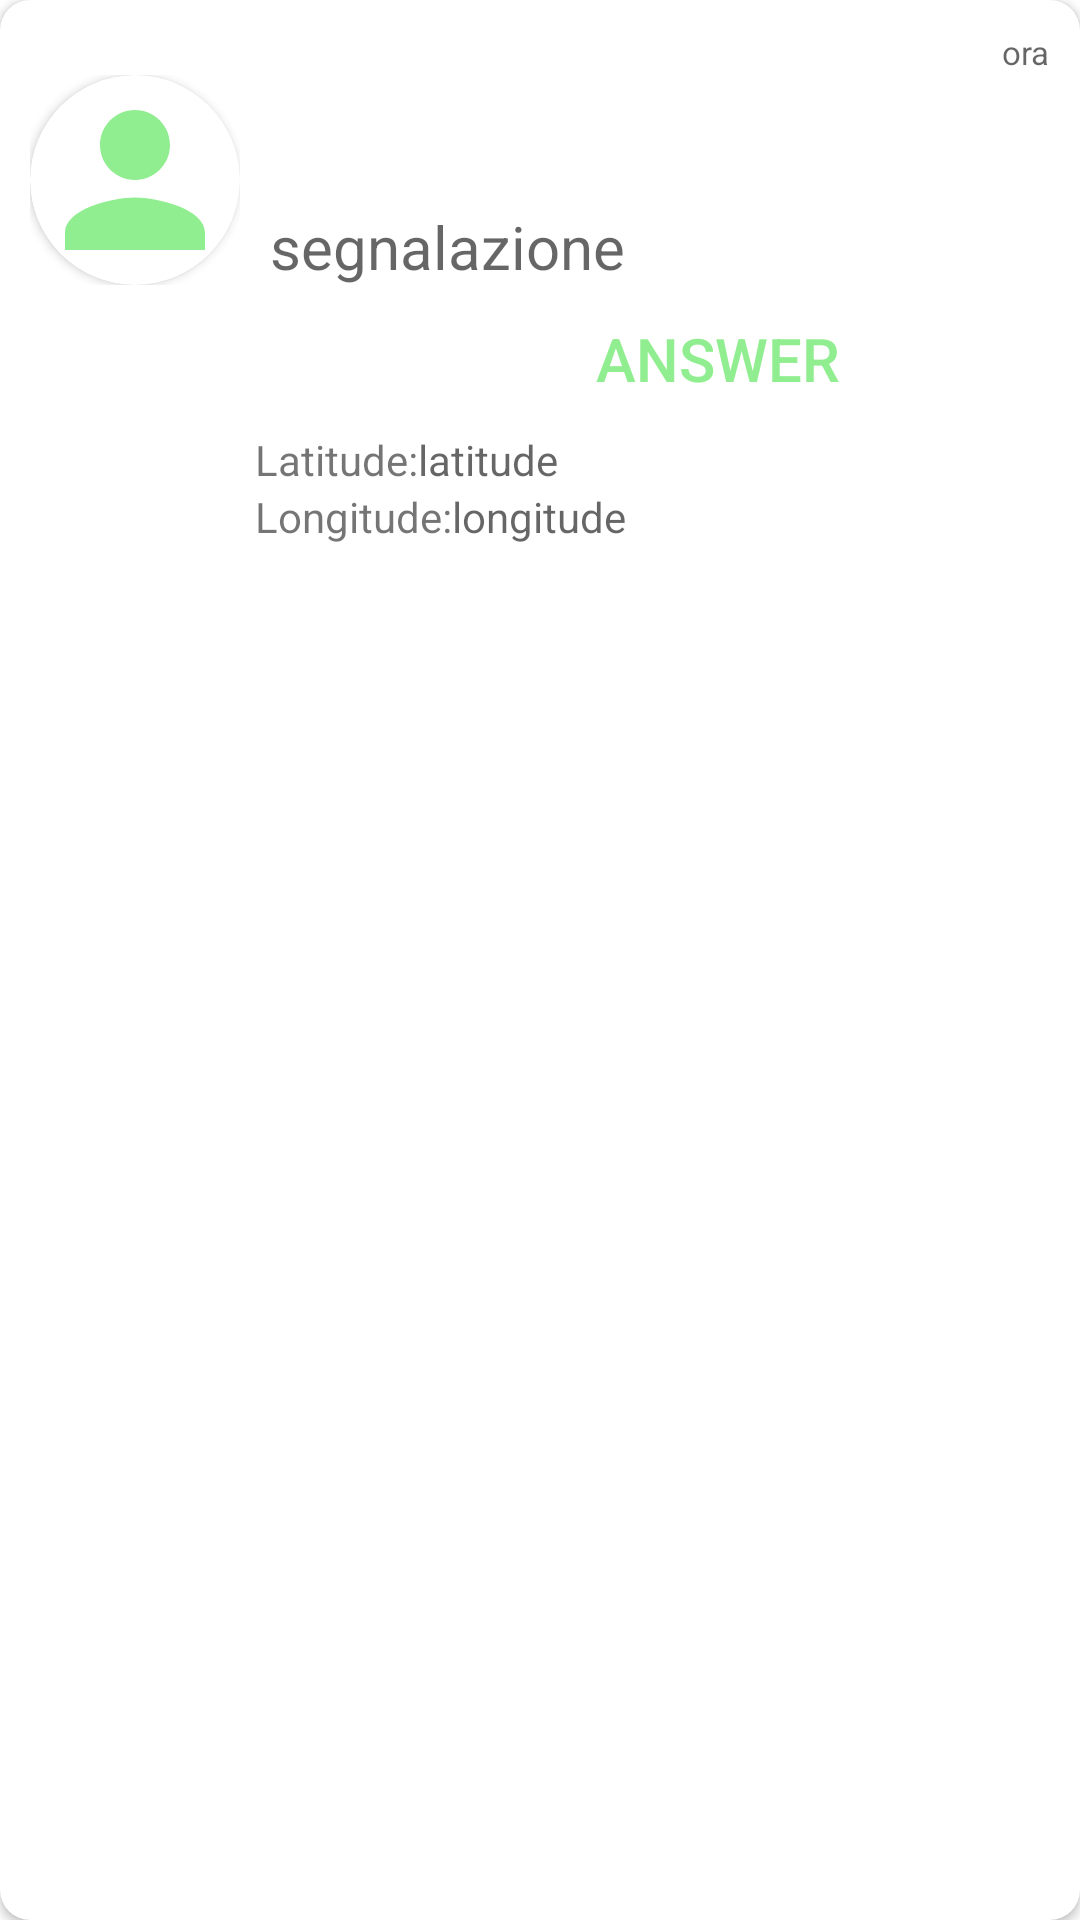

Point at icon controls on the screen. Image size 1080 × 1920, points as (x,y).
person: (117,197)
